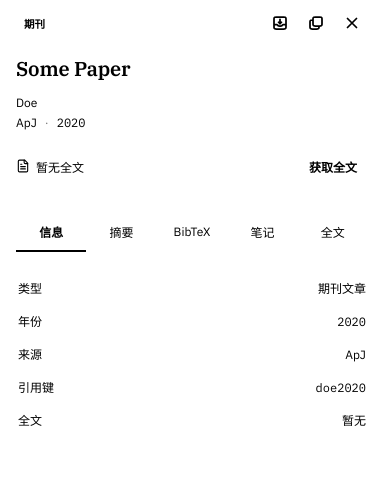
Scenario: RefDetail upload tracking › failure probe: a failed upload replayed via hello shows 上传失败：… (survives F5)
Click the tab "全文" at (333, 233), box [298,214,368,252]
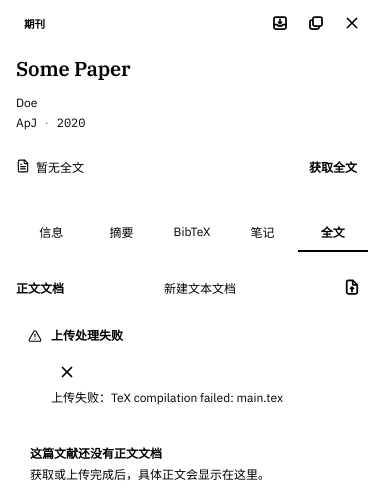
Expected: the text "上传失败：TeX compilation failed: main.tex" is shown, [51,388,283,407]
Expected: the button named "获取全文…" is enabled, [336,271,368,303]
